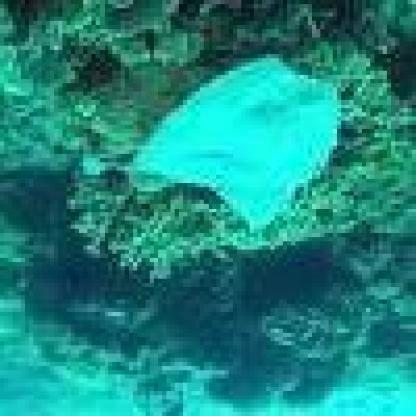pbag: (124, 54, 346, 237)
